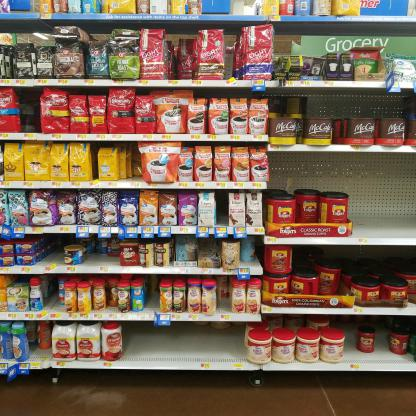Void: (272, 152, 404, 188), (125, 326, 244, 357), (356, 197, 414, 239), (308, 94, 400, 116), (351, 248, 415, 272), (18, 92, 39, 134), (37, 233, 64, 265), (28, 329, 48, 363), (373, 318, 387, 359), (225, 26, 235, 78), (344, 315, 356, 358), (131, 148, 143, 178), (46, 286, 56, 312)
